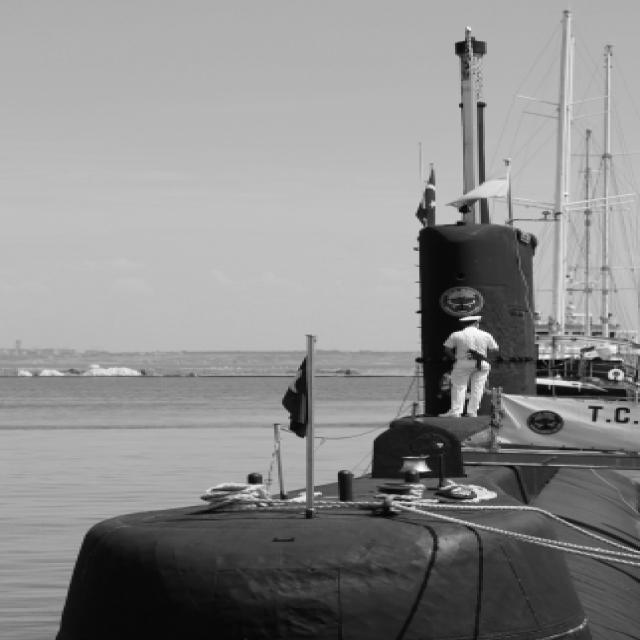submarine: (19, 1, 640, 640)
